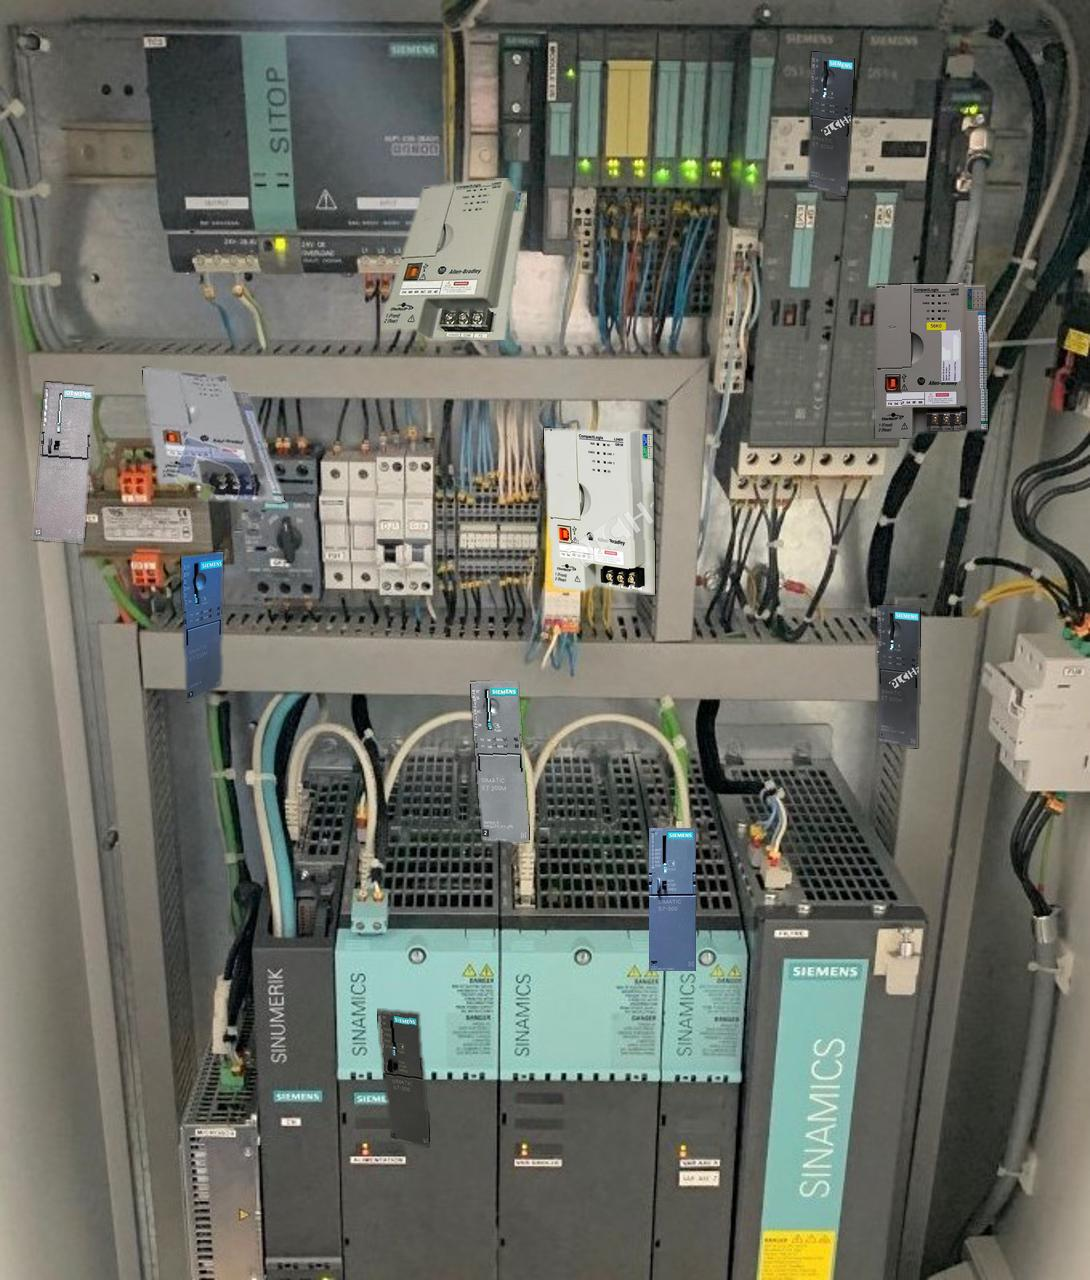AllenBradley: (381, 178, 526, 339), (142, 366, 284, 502), (544, 428, 654, 594), (875, 283, 987, 438)
Siemens: (34, 382, 93, 542), (377, 1010, 429, 1146), (649, 828, 695, 970)
